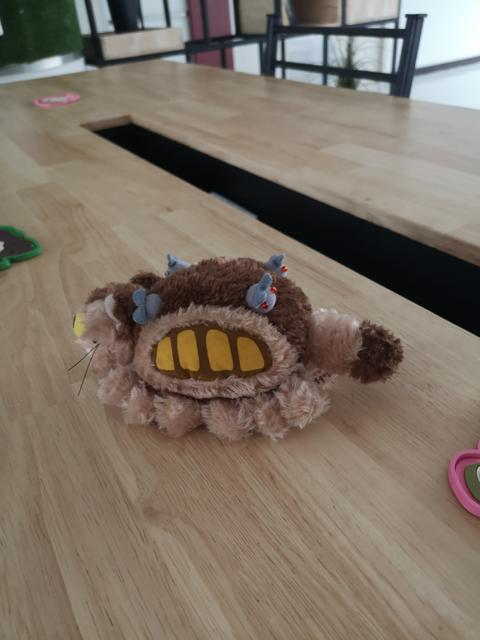nekobus: (60, 240, 412, 450)
